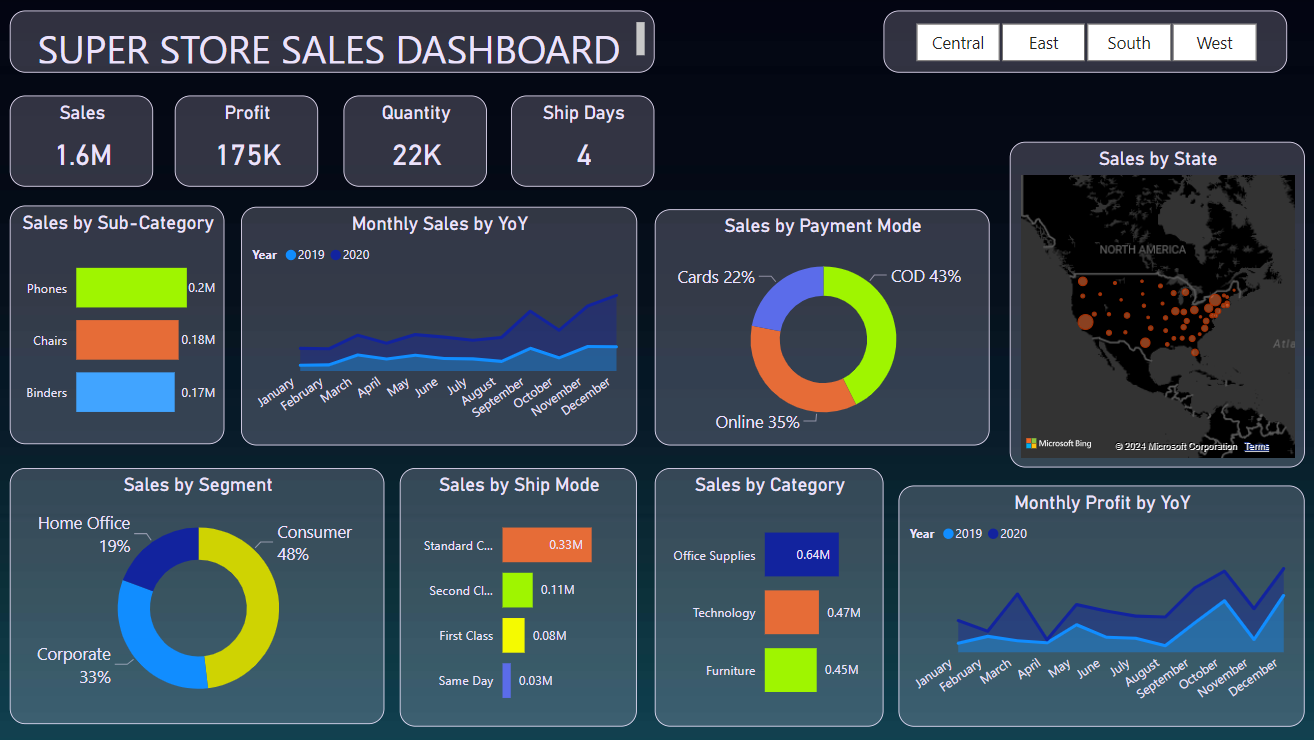

Layout of this report page (visuals, bound fields, positions):
{"tool":"powerbi","page":{"name":"Page 1","canvas":[1280,720],"ordinal":0},"visuals":[{"type":"clusteredBarChart","title":"Sales by Category","fields":{"Y":["Sum(SuperStore_Sales_Dataset.Sales)"],"Category":["SuperStore_Sales_Dataset.Category"]},"box":[640.4,453.5,220.7,249.6],"z":0},{"type":"clusteredBarChart","title":"Sales by Sub-Category","fields":{"Category":["SuperStore_Sales_Dataset.Sub-Category"],"Y":["Sum(SuperStore_Sales_Dataset.Sales)"]},"box":[18.1,200.2,207.4,230.4],"z":1000},{"type":"clusteredBarChart","title":"Sales by Ship Mode","fields":{"Y":["Sum(SuperStore_Sales_Dataset.Sales)"],"Category":["SuperStore_Sales_Dataset.Ship Mode"]},"box":[394.4,453.5,229.1,249.6],"z":2000},{"type":"stackedAreaChart","title":"Monthly Sales by YoY","fields":{"Y":["Sum(SuperStore_Sales_Dataset.Sales)"],"Category":["SuperStore_Sales_Dataset.Order Date.Variation.Date Hierarchy.Month","SuperStore_Sales_Dataset.Order Date.Variation.Date Hierarchy.Day"],"Series":["SuperStore_Sales_Dataset.Order Date.Variation.Date Hierarchy.Year"]},"box":[241.2,201.4,382.3,230.4],"z":3000},{"type":"stackedAreaChart","title":"Monthly Profit by YoY","fields":{"Category":["SuperStore_Sales_Dataset.Order Date.Variation.Date Hierarchy.Month","SuperStore_Sales_Dataset.Order Date.Variation.Date Hierarchy.Day"],"Series":["SuperStore_Sales_Dataset.Order Date.Variation.Date Hierarchy.Year"],"Y":["Sum(SuperStore_Sales_Dataset.Profit)"]},"box":[875.6,470.4,392,232.8],"z":4000},{"type":"map","title":"Sales by State","fields":{"Size":["Sum(SuperStore_Sales_Dataset.Sales)"],"Category":["SuperStore_Sales_Dataset.State"]},"box":[982.9,138.7,284.6,314.8],"z":5000},{"type":"donutChart","title":"Sales by Segment","fields":{"Category":["SuperStore_Sales_Dataset.Segment"],"Y":["Sum(SuperStore_Sales_Dataset.Sales)"]},"box":[18.1,453.5,361.8,247.2],"z":6000},{"type":"donutChart","title":"Sales by Payment Mode","fields":{"Y":["Sum(SuperStore_Sales_Dataset.Sales)"],"Category":["SuperStore_Sales_Dataset.Payment Mode"]},"box":[640.4,203.8,323.2,227.9],"z":7000},{"type":"slicer","fields":{"Values":["SuperStore_Sales_Dataset.Region"]},"box":[861.1,12.1,389.5,60.3],"z":8000},{"type":"textbox","box":[18.1,12.1,622.3,60.3],"z":9000},{"type":"card","title":"Sales","fields":{"Values":["Sum(SuperStore_Sales_Dataset.Sales)"]},"box":[18.1,94.1,138.7,88],"z":10000},{"type":"card","title":"Ship Days","fields":{"Values":["Avg(SuperStore_Sales_Dataset.Avg_Delivery)"]},"box":[501.7,94.1,138.7,88],"z":11000},{"type":"card","title":"Quantity","fields":{"Values":["Sum(SuperStore_Sales_Dataset.Quantity)"]},"box":[340.1,94.1,138.7,88],"z":12000},{"type":"card","title":"Profit","fields":{"Values":["Sum(SuperStore_Sales_Dataset.Profit)"]},"box":[177.3,94.1,138.7,88],"z":13000}]}

Visuals, with their boxes in screenshot pixels (x1, y1, x2, y2), scaled from the page's 1280x720 canvas onto the 1314x740 screenshot:
"Sales by Category" clusteredBarChart: locate(657, 466, 884, 723)
"Sales by Sub-Category" clusteredBarChart: locate(19, 206, 231, 443)
"Sales by Ship Mode" clusteredBarChart: locate(405, 466, 640, 723)
"Monthly Sales by YoY" stackedAreaChart: locate(248, 207, 640, 444)
"Monthly Profit by YoY" stackedAreaChart: locate(899, 483, 1301, 723)
"Sales by State" map: locate(1009, 143, 1301, 466)
"Sales by Segment" donutChart: locate(19, 466, 390, 720)
"Sales by Payment Mode" donutChart: locate(657, 209, 989, 444)
slicer - SuperStore_Sales_Dataset.Region: locate(884, 12, 1284, 74)
textbox: locate(19, 12, 657, 74)
"Sales" card: locate(19, 97, 161, 187)
"Ship Days" card: locate(515, 97, 657, 187)
"Quantity" card: locate(349, 97, 492, 187)
"Profit" card: locate(182, 97, 324, 187)
